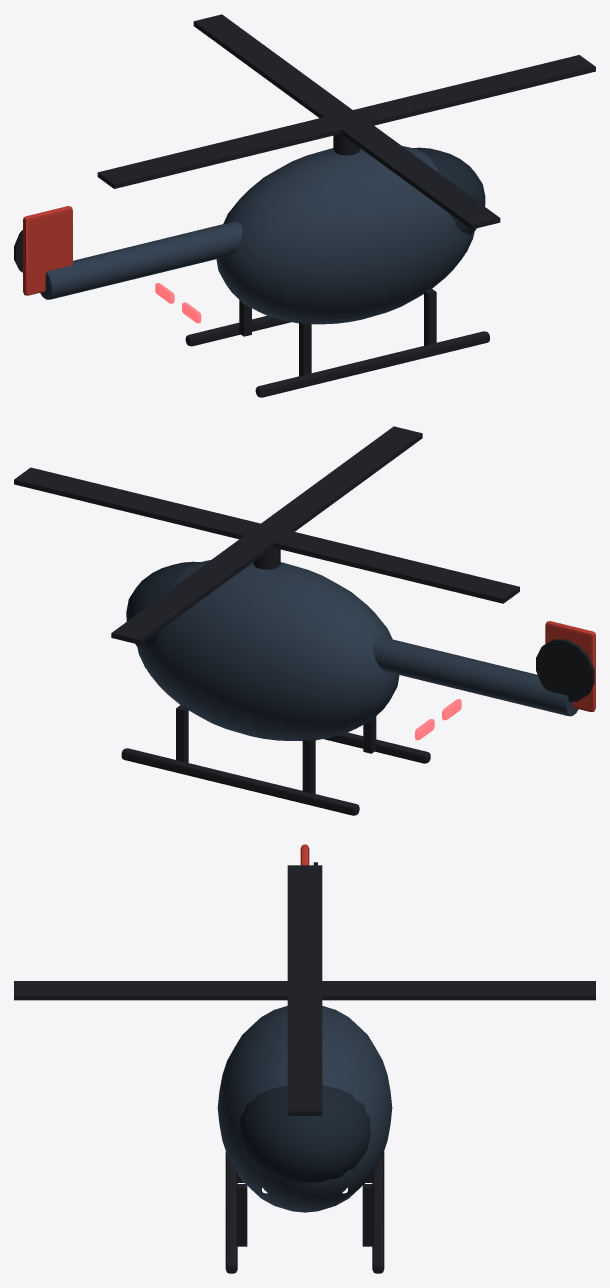
The model's file is helicopter.glb.
3 views of the same model, one above another, from view 1: azimuth 30°, elevation 25°; view 2: azimuth 150°, elevation 25°; view 3: azimuth 270°, elevation 25° (orthographic). The views are drawn at different scales.
Parts seen in each view (by area): view 1: part-heli-body, rotor, part-trim, part-tail-red, part-glass, part-taillight; view 2: part-heli-body, rotor, part-trim, part-glass, part-tail-red, part-taillight; view 3: rotor, part-heli-body, part-glass, part-trim.
Part boxes in pixels (<box>): part-heli-body: <box>40,146,474,324</box>; rotor: <box>97,14,595,229</box>; part-trim: <box>14,230,489,397</box>; part-tail-red: <box>23,206,72,295</box>; part-glass: <box>412,147,485,235</box>; part-taillight: <box>155,283,201,323</box>; part-heli-body: <box>137,560,578,740</box>; rotor: <box>14,426,519,644</box>; part-trim: <box>121,639,594,815</box>; part-glass: <box>126,561,200,650</box>; part-tail-red: <box>545,621,595,711</box>; part-taillight: <box>415,699,461,740</box>; rotor: <box>14,865,595,1115</box>; part-heli-body: <box>217,1006,392,1212</box>; part-glass: <box>239,1085,370,1182</box>; part-trim: <box>225,862,384,1273</box>.
Size of the model in its own units: 63.62 by 23.8 by 54.
